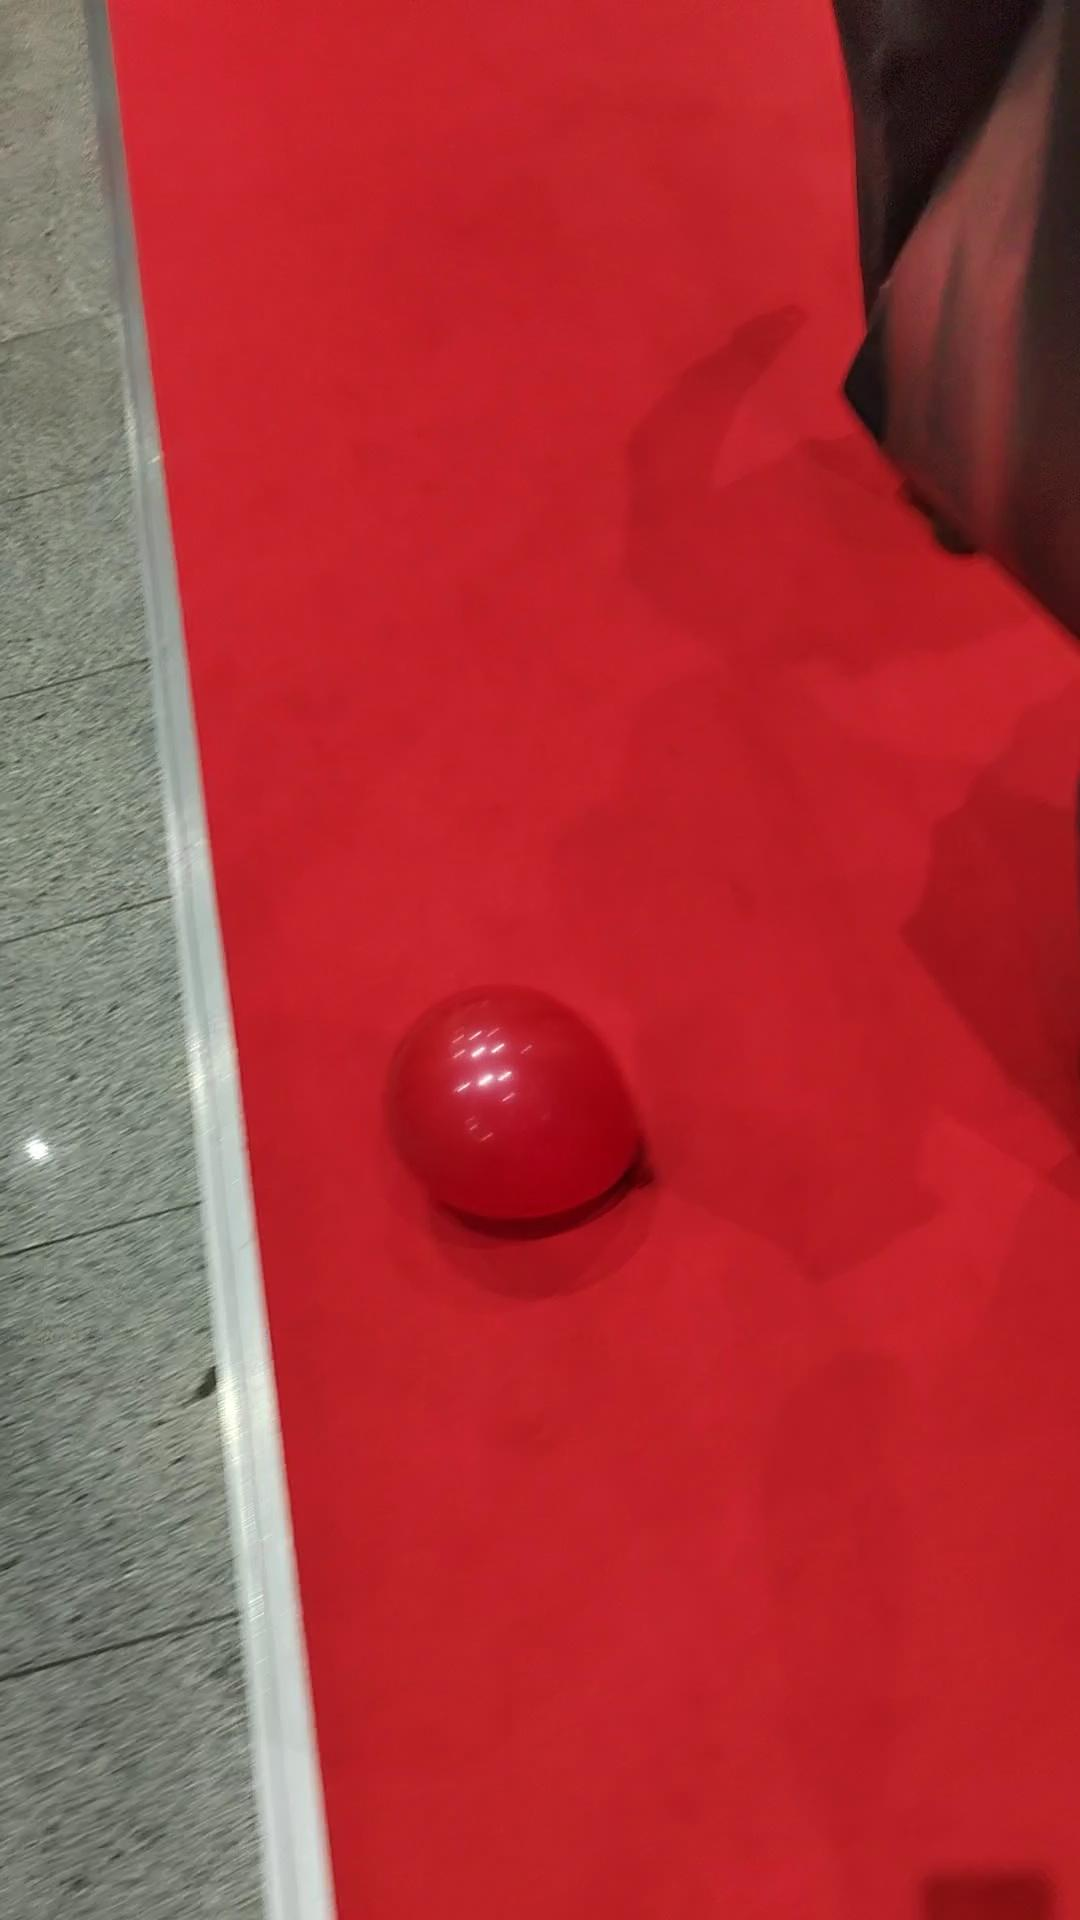red: (389, 985, 638, 1224)
